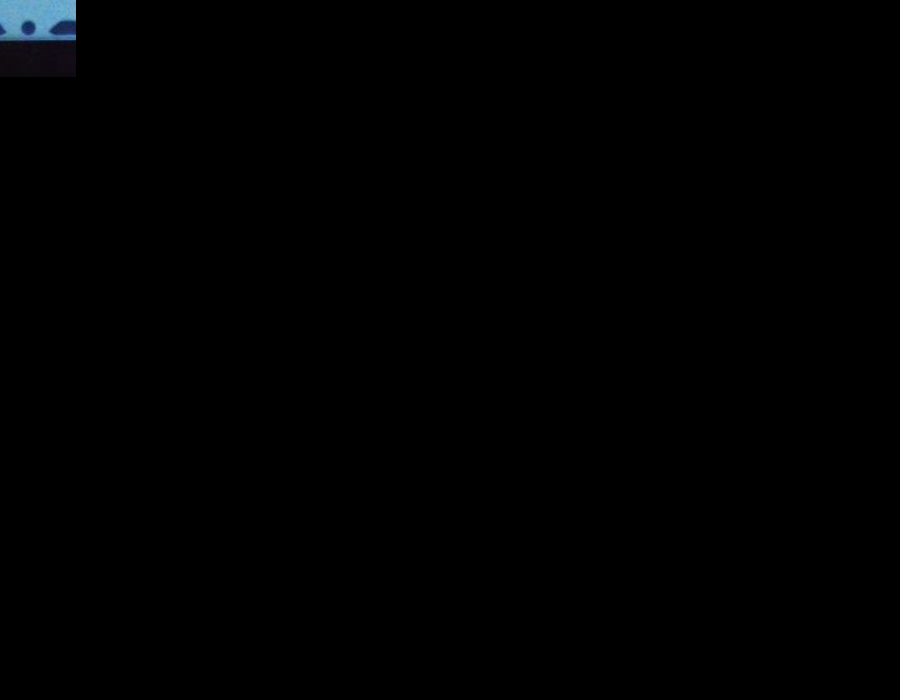.: (21, 19, 38, 35)
